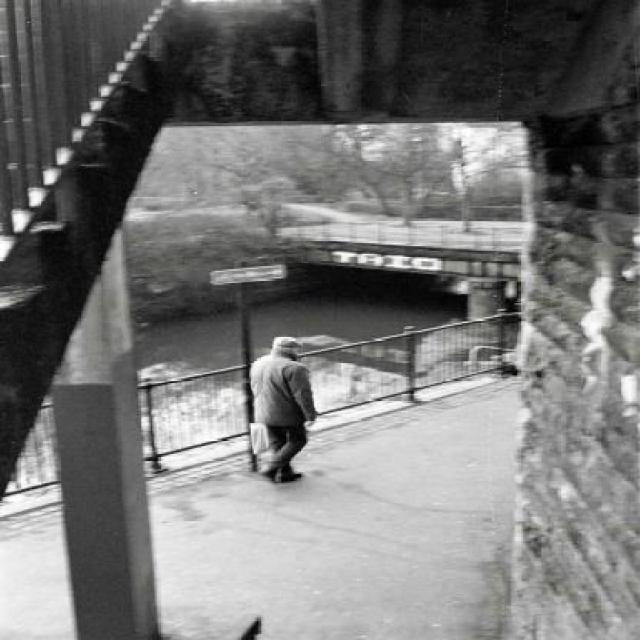stair: (0, 0, 183, 492)
